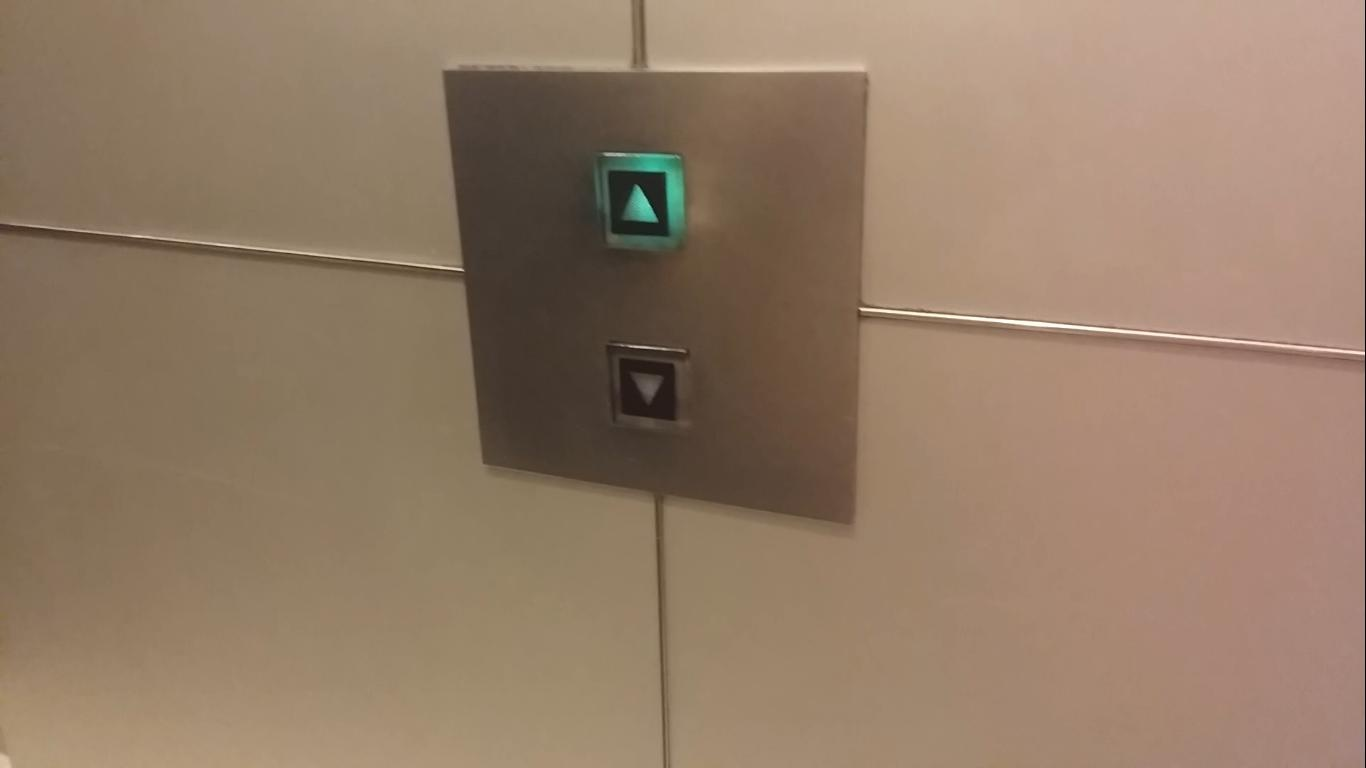down: (606, 339, 698, 440)
up: (592, 151, 691, 257)
